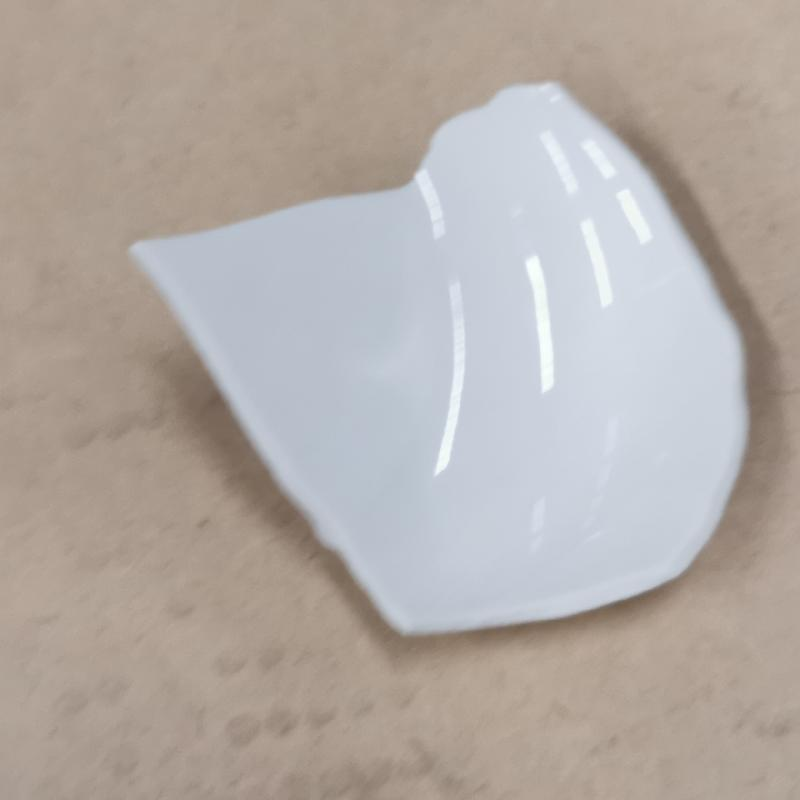ceram: (121, 78, 749, 647)
